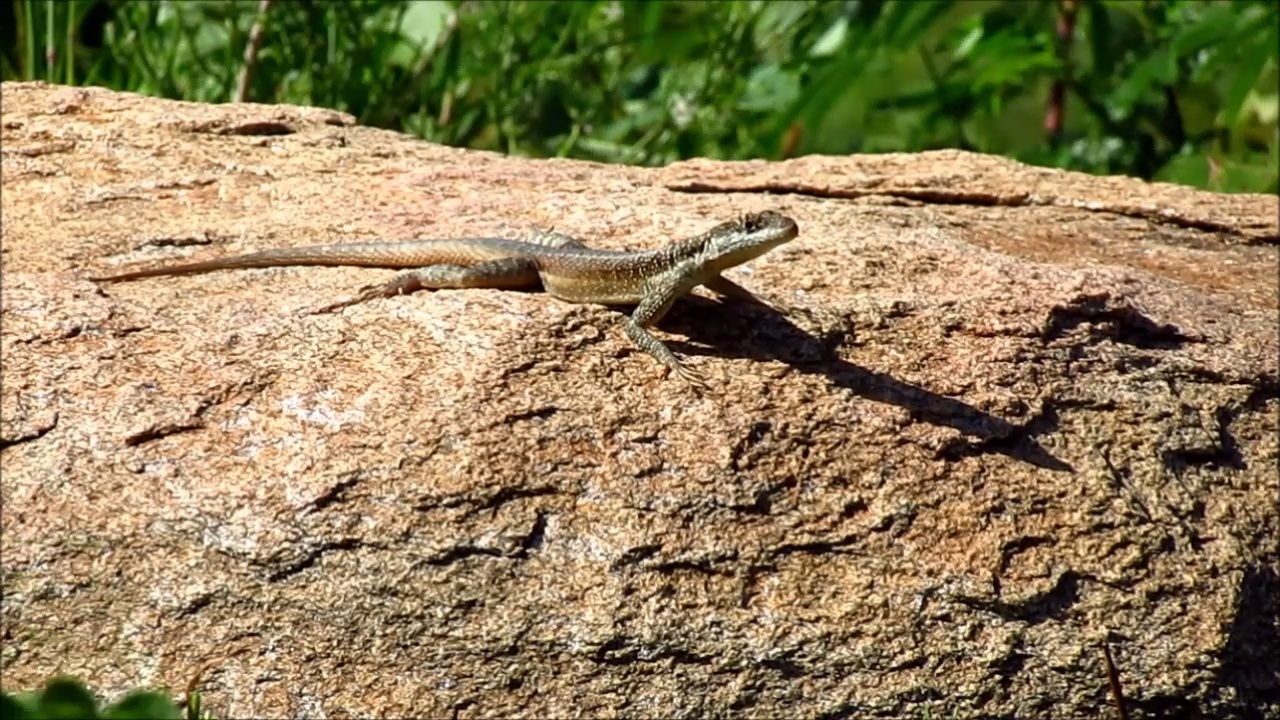body: (83, 227, 710, 394)
head: (704, 210, 799, 260)
